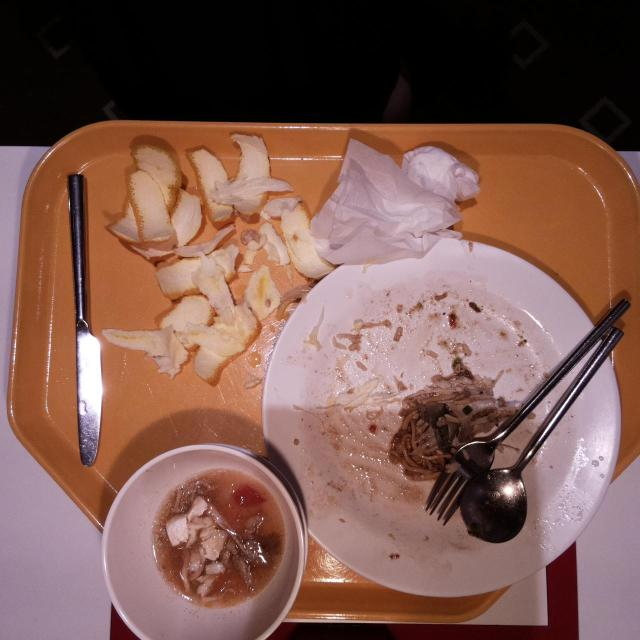Noodle: (393, 424, 437, 481)
Orange-peel: (103, 135, 269, 387)
